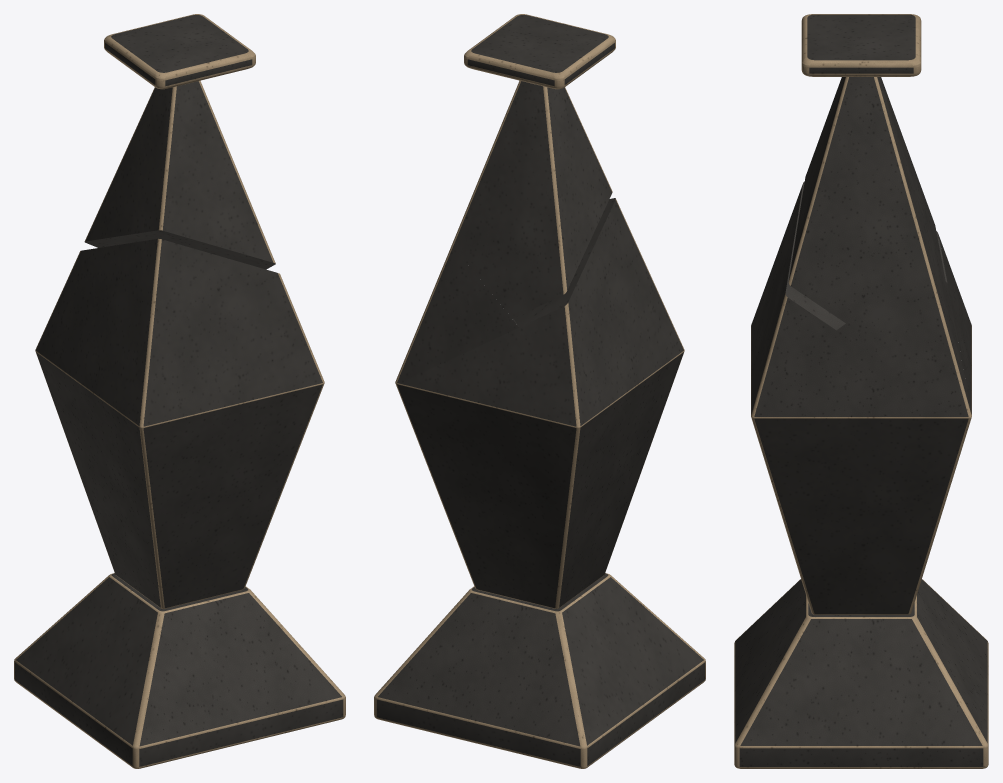
The model's file is bishop-black-hd.glb.
3 views of the same model, side by side, from view 1: azimuth 30°, elevation 25°; view 2: azimuth 150°, elevation 25°; view 3: azimuth 270°, elevation 25° (orthographic). The views are drawn at different scales.
Parts seen in each view (by area): view 1: bishop_black; view 2: bishop_black; view 3: bishop_black.
Boxes of the visible parts, x1,y1,x2,y2 form: bishop_black: (14,14,345,768); bishop_black: (374,14,705,768); bishop_black: (734,14,988,768).
Bounding box in the file's own units: 0.4577 × 1.35 × 0.4577.
2 materials, 2 textured.
